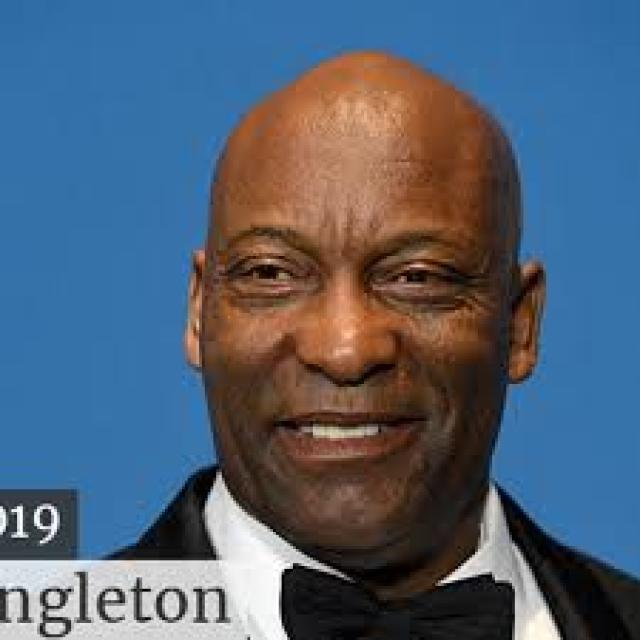normal_face: (197, 66, 538, 558)
